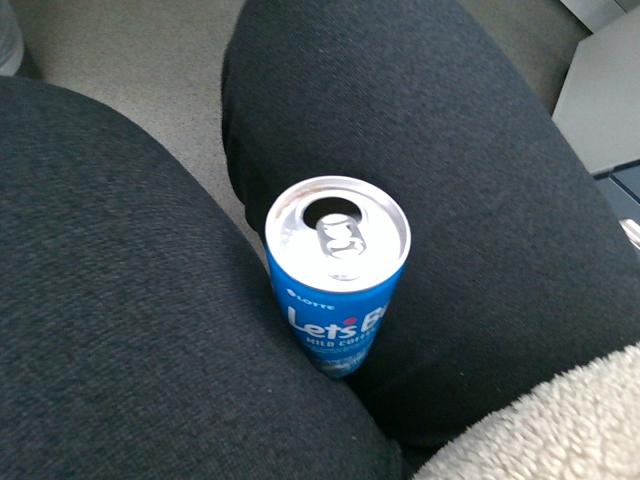letsbe: (263, 174, 411, 379)
